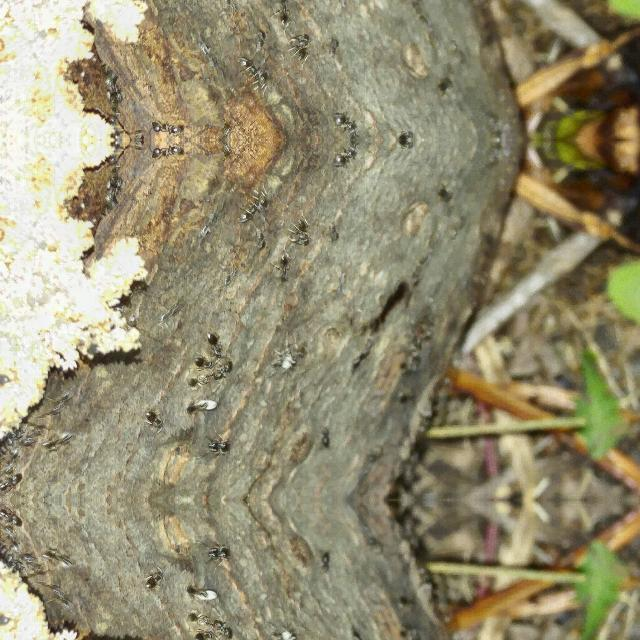Tapinoma: (232, 187, 278, 227), (232, 53, 278, 93), (200, 328, 234, 362), (50, 380, 82, 416), (50, 584, 82, 620), (0, 416, 38, 444), (0, 556, 38, 584), (40, 429, 80, 451), (40, 549, 80, 571), (0, 471, 30, 497), (0, 503, 30, 529), (147, 141, 190, 159), (147, 121, 190, 139), (100, 181, 126, 209), (100, 71, 126, 99), (209, 356, 235, 382), (276, 246, 294, 282), (143, 407, 167, 433), (143, 567, 167, 593), (209, 618, 235, 640), (288, 344, 308, 372), (276, 0, 292, 34), (274, 339, 294, 366), (252, 222, 270, 252), (2, 444, 20, 474), (252, 28, 270, 58), (2, 526, 20, 556), (102, 140, 124, 164), (102, 116, 124, 140), (336, 142, 358, 164), (336, 116, 358, 138), (186, 371, 207, 393), (186, 607, 207, 629), (324, 38, 344, 61), (292, 217, 308, 245), (292, 35, 308, 63), (324, 220, 344, 242), (205, 440, 232, 456), (184, 398, 208, 416), (205, 544, 232, 560), (184, 584, 208, 602), (321, 423, 333, 445), (286, 628, 308, 640), (321, 555, 333, 577), (393, 140, 412, 150), (393, 130, 412, 140), (272, 632, 294, 640)
